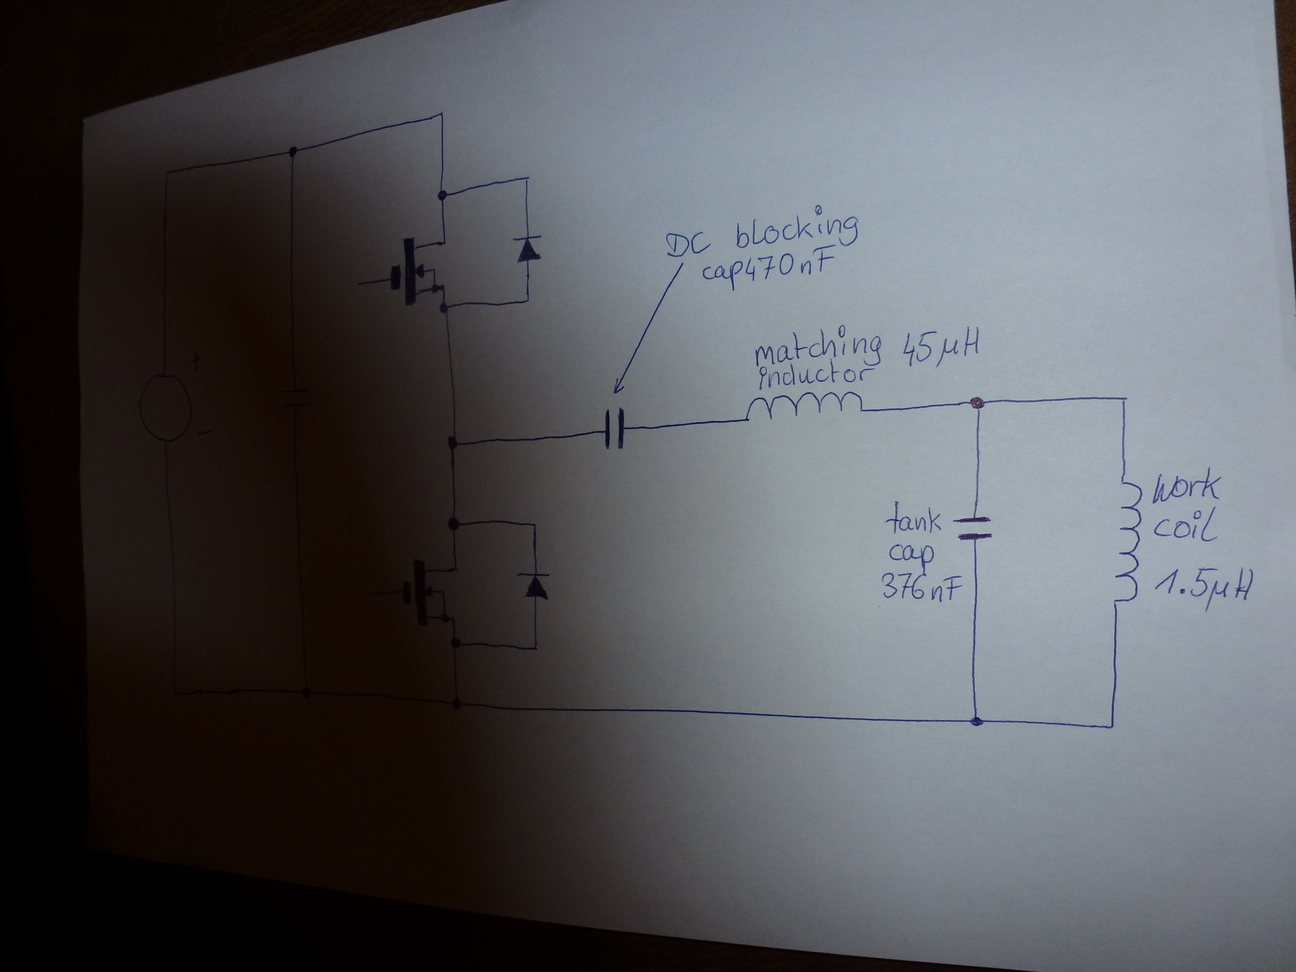capacitor.unpolarized: (599, 405, 629, 452), (952, 513, 995, 543), (281, 385, 310, 414)
diode: (508, 231, 546, 269), (518, 569, 553, 606)
inductor: (742, 388, 867, 429), (1111, 467, 1145, 607)
junction: (966, 393, 989, 414), (1113, 390, 1132, 409), (444, 433, 461, 451), (444, 514, 461, 532), (1102, 717, 1119, 734), (968, 712, 985, 729), (434, 187, 451, 203), (449, 696, 465, 712), (448, 636, 463, 651), (436, 301, 452, 315), (298, 685, 312, 700), (286, 144, 300, 158), (519, 172, 533, 185), (169, 686, 182, 699), (434, 109, 446, 121), (528, 517, 540, 529), (161, 167, 173, 180), (529, 641, 540, 654), (521, 294, 532, 306)
terminal: (350, 278, 365, 288), (362, 589, 373, 598)
text: (734, 331, 989, 371), (711, 213, 851, 283), (724, 211, 857, 251), (701, 247, 833, 287), (1152, 563, 1255, 613), (752, 354, 891, 385), (878, 564, 963, 603), (1150, 468, 1222, 505), (1153, 508, 1222, 543), (884, 499, 944, 538), (664, 229, 711, 256), (886, 542, 932, 563)
transistor: (388, 233, 450, 308), (398, 560, 462, 628)
voltage.dc: (136, 371, 195, 446)
